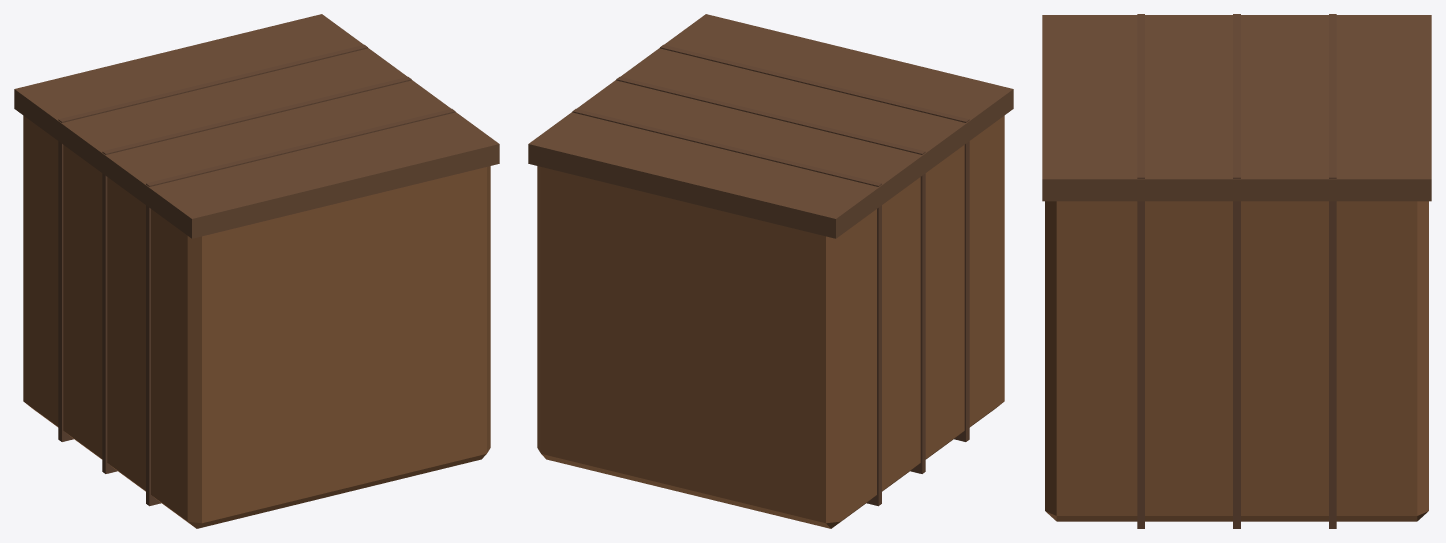
Rendered from OakBlock.fbx.
3 views of the same model, side by side, from view 1: azimuth 30°, elevation 25°; view 2: azimuth 150°, elevation 25°; view 3: azimuth 270°, elevation 25° (orthographic). The views are drawn at different scales.
Visible parts, largest first — view 1: OakBlock; view 2: OakBlock; view 3: OakBlock.
Boxes of the visible parts, x1,y1,x2,y2 form: OakBlock: [14, 14, 499, 528]; OakBlock: [528, 14, 1013, 528]; OakBlock: [1042, 14, 1431, 528].
Size of the model in its own units: 4.06 by 4.04 by 4.06.
1 material, 1 textured.
